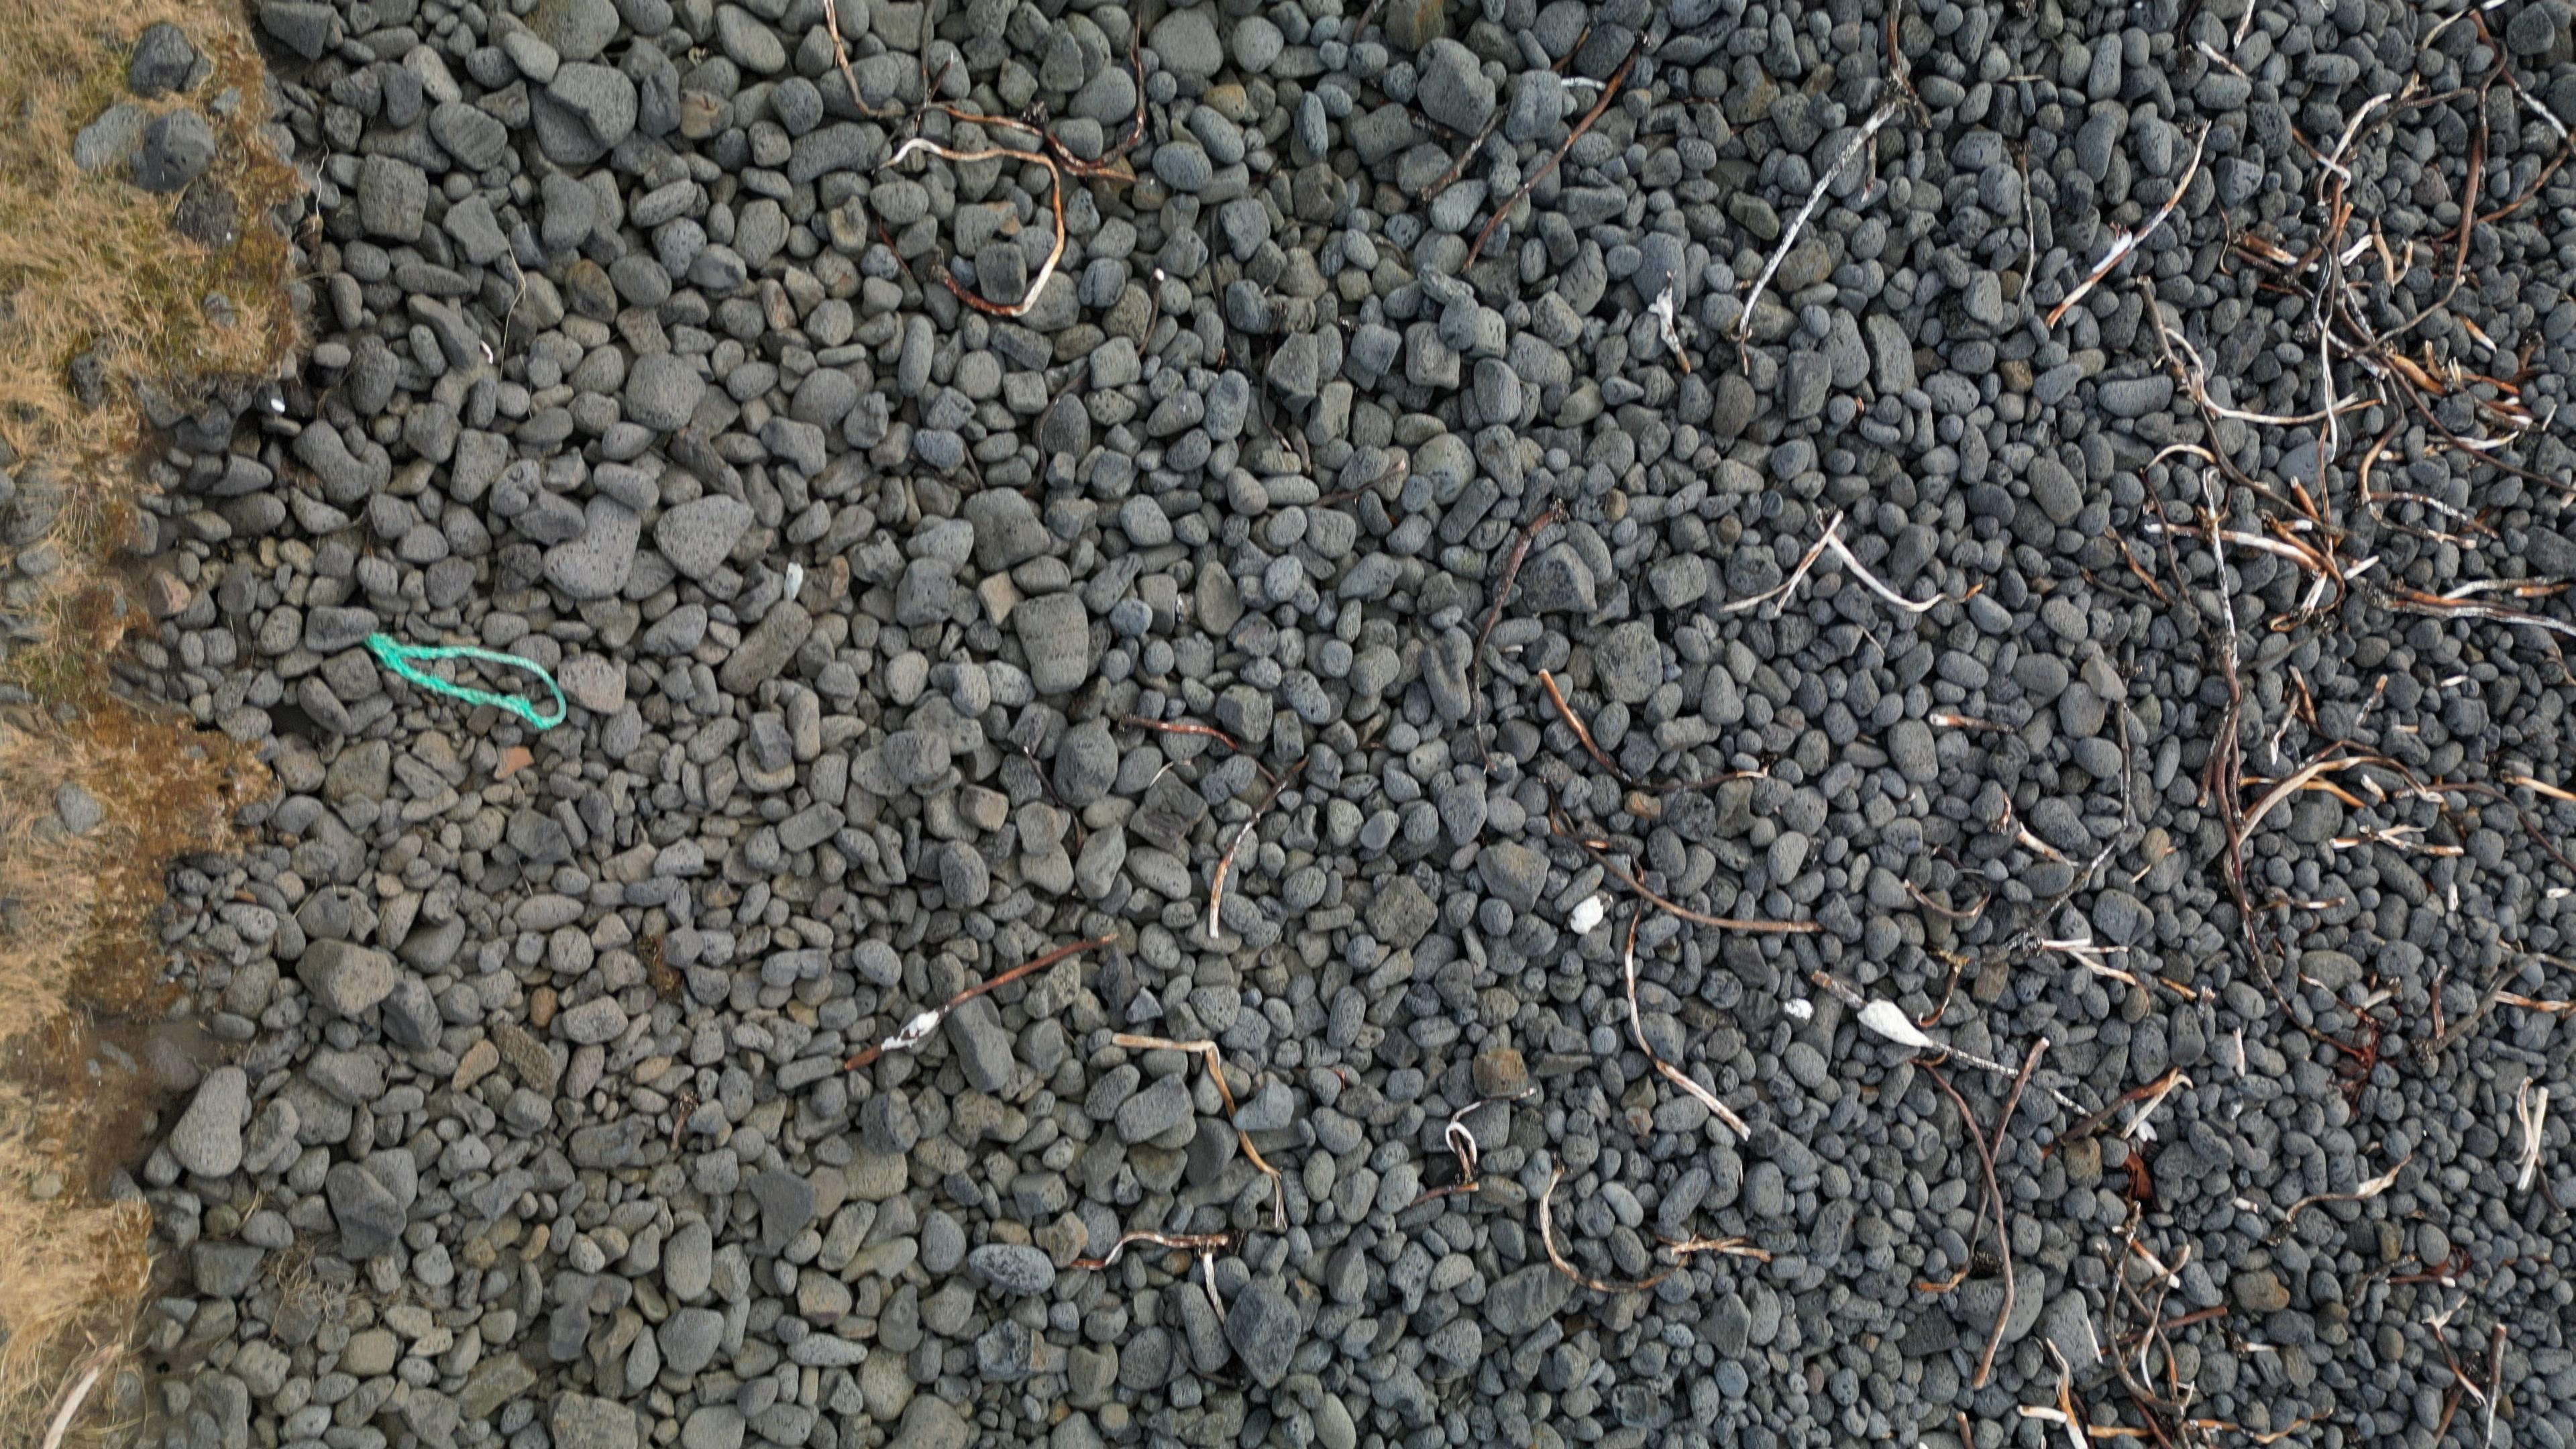trash: (368, 634, 569, 730)
